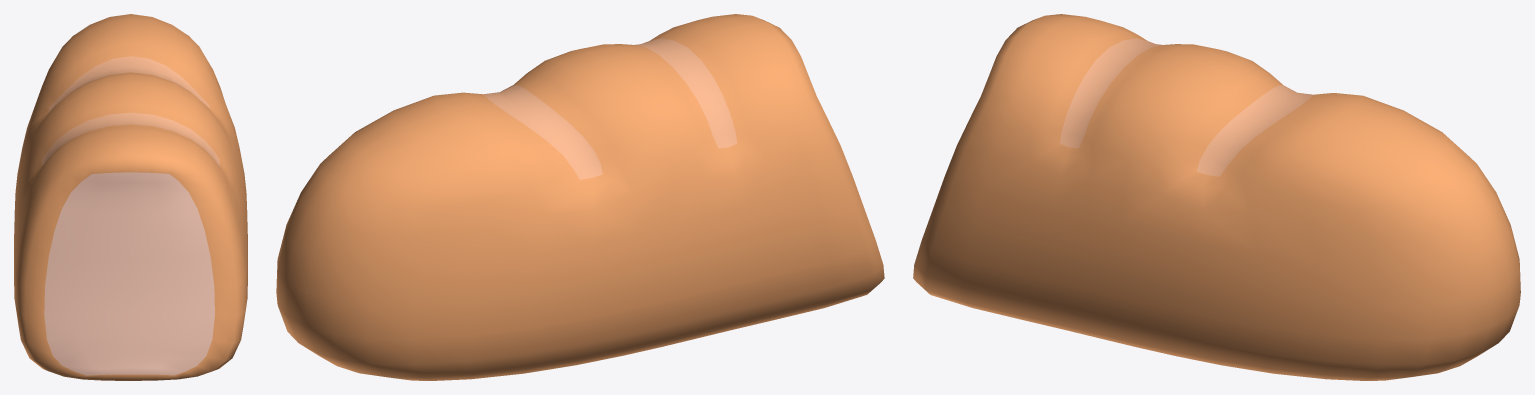
File: Breadstick_02.fbx
3 renders of one model, left to right at view 1: azimuth 30°, elevation 25°; view 2: azimuth 150°, elevation 25°; view 3: azimuth 270°, elevation 25°, orthographic. The views are drawn at different scales.
Visible parts, largest first — view 1: Breadstick_02_LOD0; view 2: Breadstick_02_LOD0; view 3: Breadstick_02_LOD0.
Part boxes in pixels (x1,y1,x2,y2): Breadstick_02_LOD0: (14,14,247,380); Breadstick_02_LOD0: (276,14,884,380); Breadstick_02_LOD0: (913,14,1520,380).
Size of what is drawn, in the model's own units: 544 by 334 by 711.
